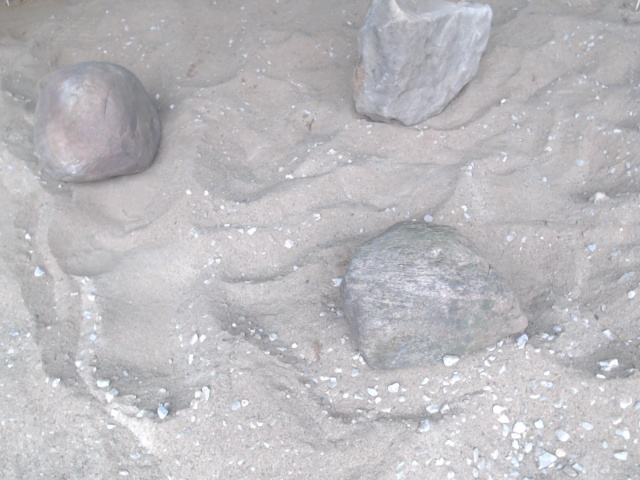rock: (334, 215, 537, 377), (345, 1, 498, 132), (24, 55, 167, 190)
